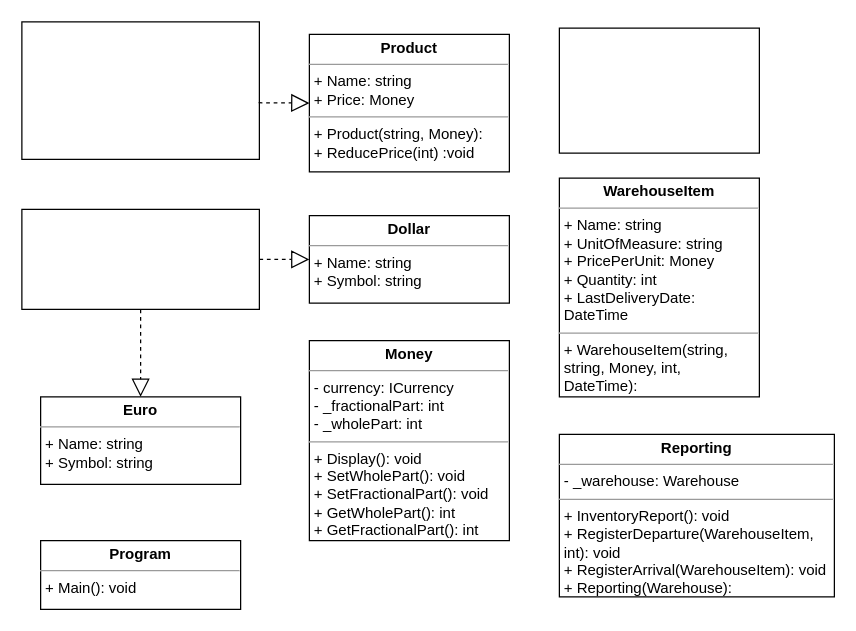
The diagram is 856 pixels wide and 631 high, and some of its shapes have lost their labels. The shapes that lost their labels are listed below. From the top down, each one's centre as x and y in pixels, then its label:
At pixel 140 90: "<<Interface>> IProduct + Name: string + Price: Money + ReducePrice(int): void".
At pixel 658 90: "Warehouse + Items: WarehouseItem + AddItem(WarehouseItem): void + Warehouse():".
At pixel 140 258: "<<Interface>> ICurrency + Name: string + Symbol: string".
